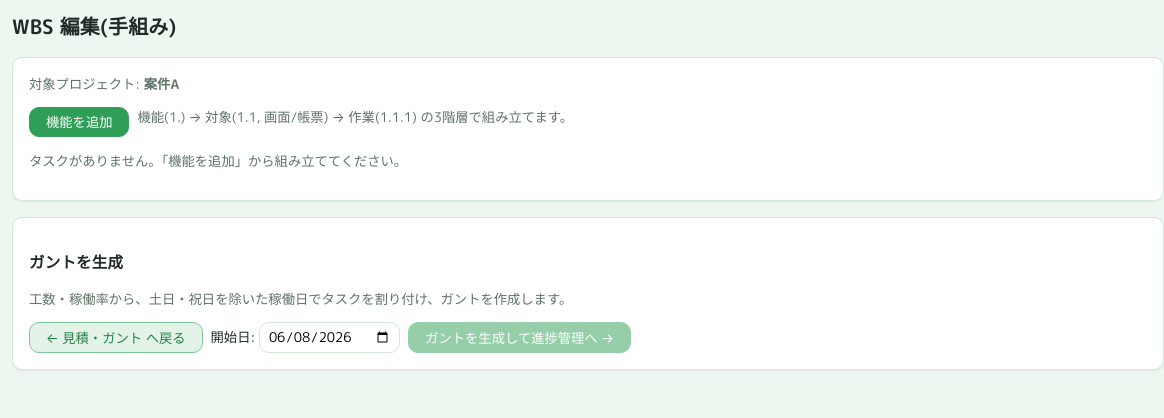
Test: WbsEditPage (US-018 / US-038) › 「機能を追加」で level1 タスクが作成され一覧に出る
Click the button "機能を追加": coordinates (79, 122) [29,107,130,137]
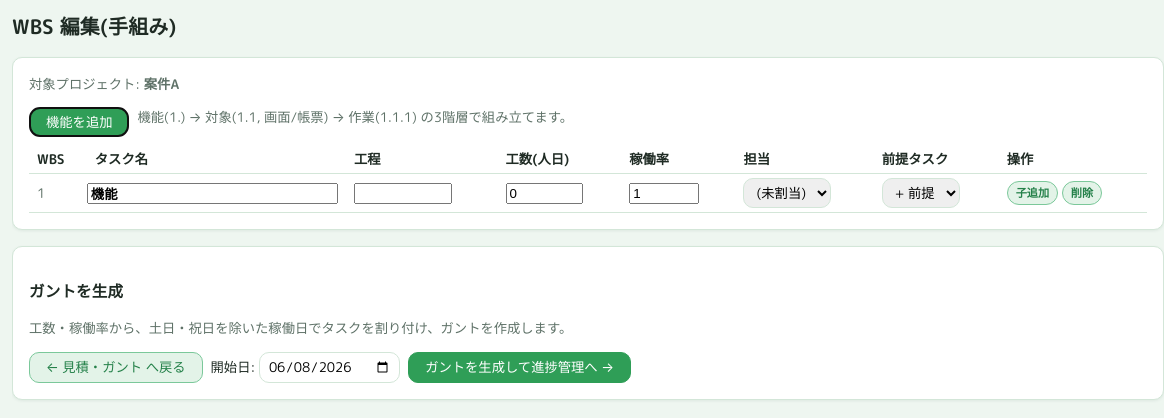
Expected: the text "1" is shown, [29,174,87,213]
Expected: the field named "1 の名称" is shown, [87,183,338,204]
